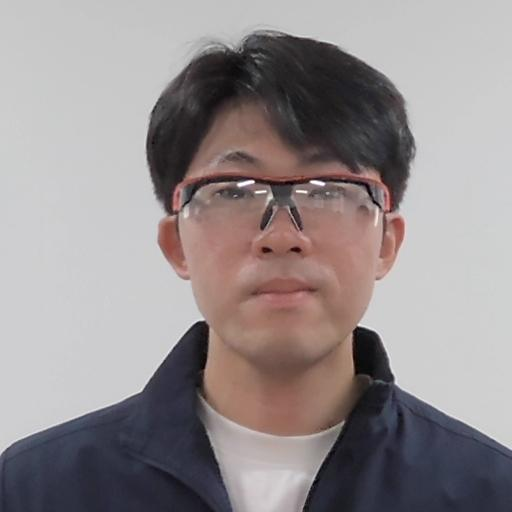glasses: (136, 42, 421, 354)
